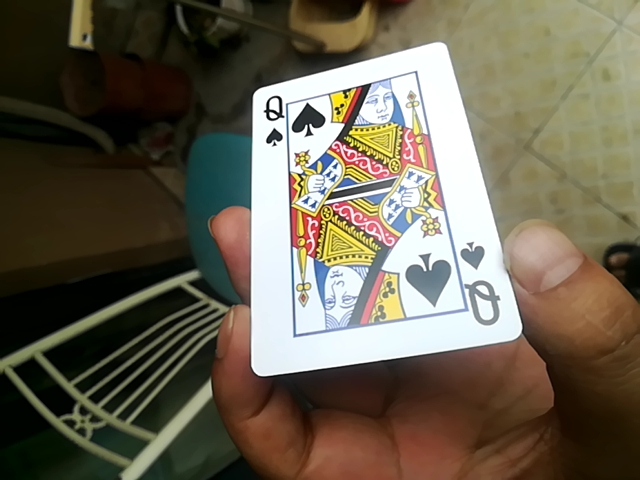ht q: (252, 34, 511, 386)
